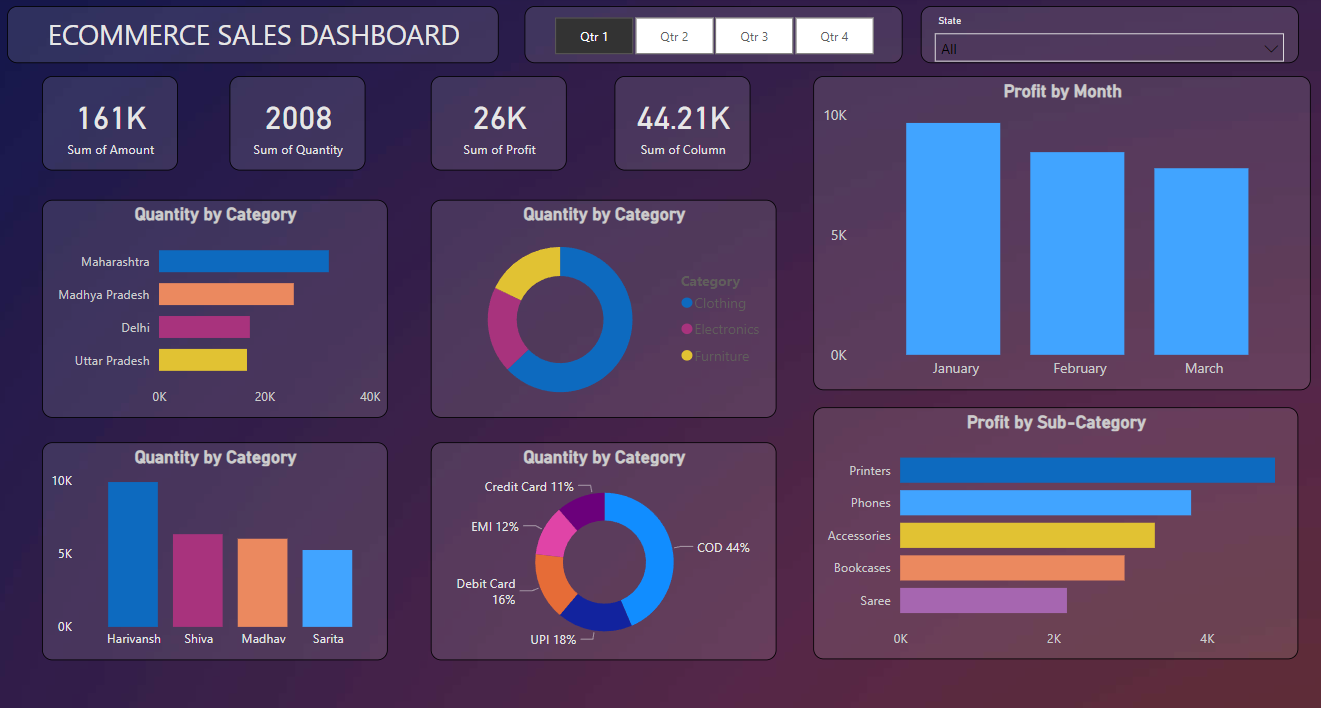

What the dashboard file says about the page in this screenshot:
{"tool":"powerbi","page":{"name":"Page 1","canvas":[1280,720],"ordinal":0},"visuals":[{"type":"textbox","box":[10,10,474.4,55.6],"z":0},{"type":"columnChart","title":"Profit by Month","fields":{"Y":["Sum(Details.Profit)"],"Category":["Orders.Order Date.Variation.Date Hierarchy.Month"]},"box":[787.8,76.7,480,303.3],"z":1000},{"type":"barChart","title":"Profit by Sub-Category ","fields":{"Category":["Details.Sub-Category"],"Y":["Sum(Details.Profit)"]},"box":[787.8,396.7,467.8,243.3],"z":2000},{"type":"donutChart","title":"Quantity by Category","fields":{"Category":["Details.Category"],"Y":["Sum(Details.Quantity)"]},"box":[418.9,196.7,333.3,210],"z":3000},{"type":"donutChart","title":"Quantity by Category","fields":{"Y":["Sum(Details.Quantity)"],"Category":["Details.PaymentMode"]},"box":[418.9,430,333.3,210],"z":4000},{"type":"card","fields":{"Values":["Sum(Details.Column)"]},"box":[595.6,76.7,131.1,91.1],"z":5000},{"type":"card","fields":{"Values":["Sum(Details.Amount)"]},"box":[43.3,76.7,131.1,91.1],"z":6000},{"type":"card","fields":{"Values":["Sum(Details.Quantity)"]},"box":[224.4,76.7,131.1,91.1],"z":7000},{"type":"card","fields":{"Values":["Sum(Details.Profit)"]},"box":[418.9,76.7,131.1,91.1],"z":8000},{"type":"columnChart","title":"Quantity by Category","fields":{"Category":["Orders.CustomerName"],"Y":["Sum(Details.Amount)"]},"box":[43.3,430,333.3,210],"z":9000},{"type":"barChart","title":"Quantity by Category","fields":{"Category":["Orders.State"],"Y":["Sum(Details.Amount)"]},"box":[43.3,196.7,333.3,210],"z":10000},{"type":"slicer","fields":{"Values":["Orders.Order Date.Variation.Date Hierarchy.Quarter"]},"box":[508.9,10,364.4,55.6],"z":10001},{"type":"slicer","fields":{"Values":["Orders.State"]},"box":[891.1,10,364.4,55.6],"z":10002}]}

Visuals, with their boxes on the page's 1280x720 design canvas (x1, y1, x2, y2). These are canvas units, not pixel positions in the 1321x708 screenshot, which may show the page scaled, cropped or inside an application window:
textbox: 10, 10, 484, 66
"Profit by Month" columnChart: 788, 77, 1268, 380
"Profit by Sub-Category " barChart: 788, 397, 1256, 640
"Quantity by Category" donutChart: 419, 197, 752, 407
"Quantity by Category" donutChart: 419, 430, 752, 640
card - Sum(Details.Column): 596, 77, 727, 168
card - Sum(Details.Amount): 43, 77, 174, 168
card - Sum(Details.Quantity): 224, 77, 356, 168
card - Sum(Details.Profit): 419, 77, 550, 168
"Quantity by Category" columnChart: 43, 430, 377, 640
"Quantity by Category" barChart: 43, 197, 377, 407
slicer - Orders.Order Date.Variation.Date Hierarchy.Quarter: 509, 10, 873, 66
slicer - Orders.State: 891, 10, 1256, 66
